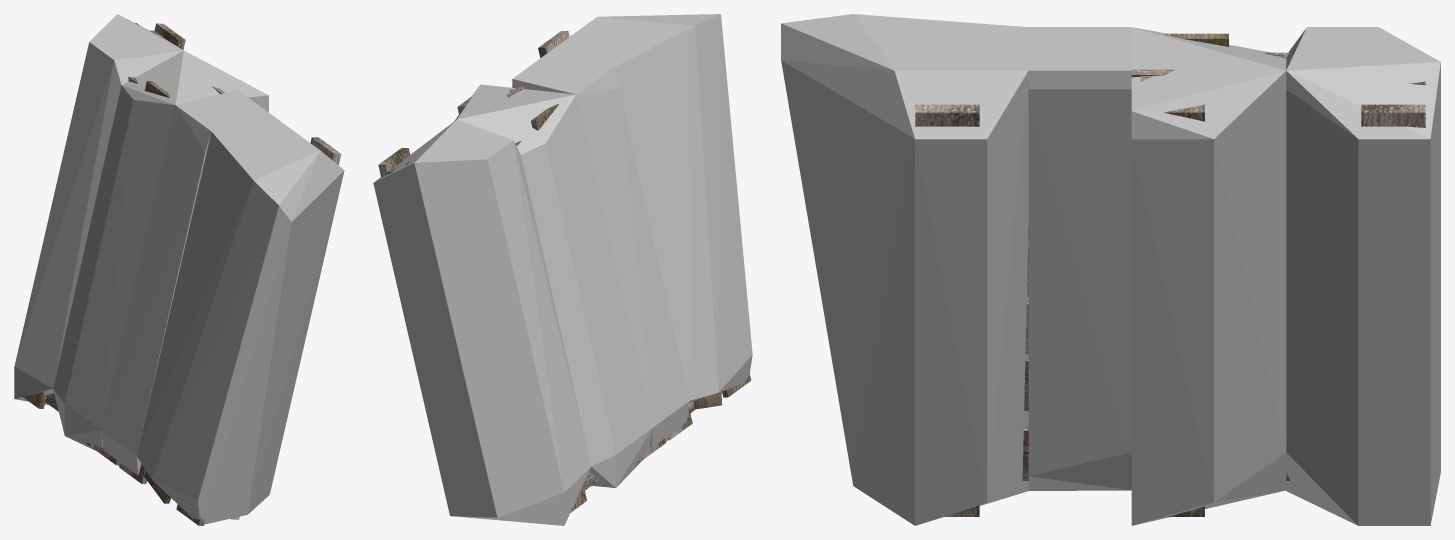
The model's file is SM_wooden_pallet_c.fbx.
3 renders of one model, left to right at view 1: azimuth 30°, elevation 25°; view 2: azimuth 150°, elevation 25°; view 3: azimuth 270°, elevation 25°, orthographic. The views are drawn at different scales.
Parts seen in each view (by area): view 1: SM_wooden_pallet_c_ConvexHulls, SM_wooden_pallet_c; view 2: SM_wooden_pallet_c_ConvexHulls, SM_wooden_pallet_c; view 3: SM_wooden_pallet_c_ConvexHulls, SM_wooden_pallet_c.
Boxes of the visible parts, x1,y1,x2,y2 form: SM_wooden_pallet_c_ConvexHulls: [14, 14, 344, 524]; SM_wooden_pallet_c: [22, 23, 341, 525]; SM_wooden_pallet_c_ConvexHulls: [373, 14, 752, 525]; SM_wooden_pallet_c: [378, 31, 751, 513]; SM_wooden_pallet_c_ConvexHulls: [781, 14, 1440, 525]; SM_wooden_pallet_c: [786, 33, 1425, 516].
Bounding box in the file's own units: 72.06 × 165 × 134.
Materials: 2 (1 with a texture image).
